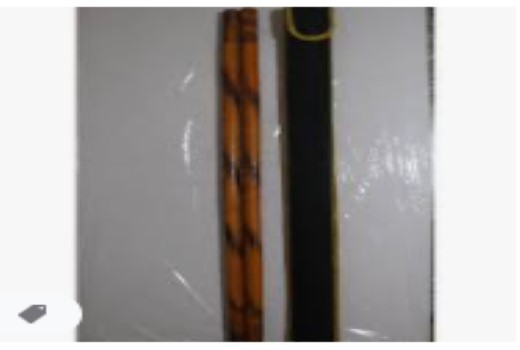baston_e: (219, 20, 246, 334), (238, 17, 265, 325)
baston_v: (218, 2, 242, 27), (238, 1, 258, 23), (243, 329, 266, 348), (226, 329, 246, 349)
